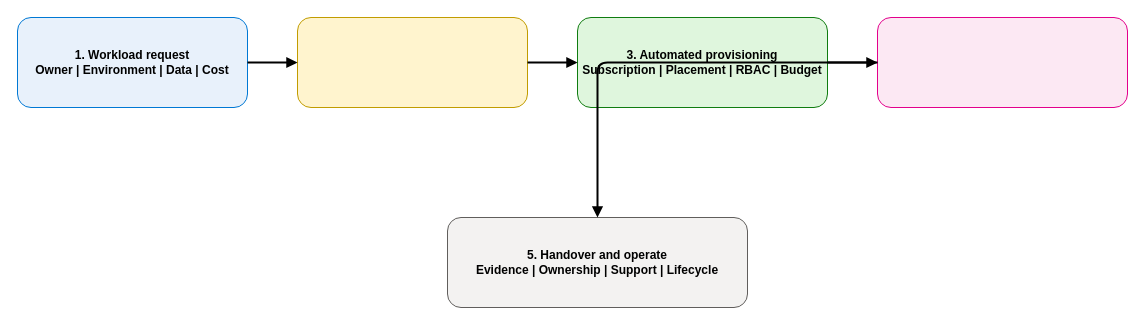
Some shapes in this 1145 by 325 pixel diagram are drawn without their labels. The shapes that lost their labels are listed below. From the top down, each one's centre as x and y in pixels, then its label:
At [412,62]: "2. Architecture decisions Corp/Online | Region | Network".
At [1002,62]: "4. Platform baseline Policy | Logs | Security | Connectivity".
